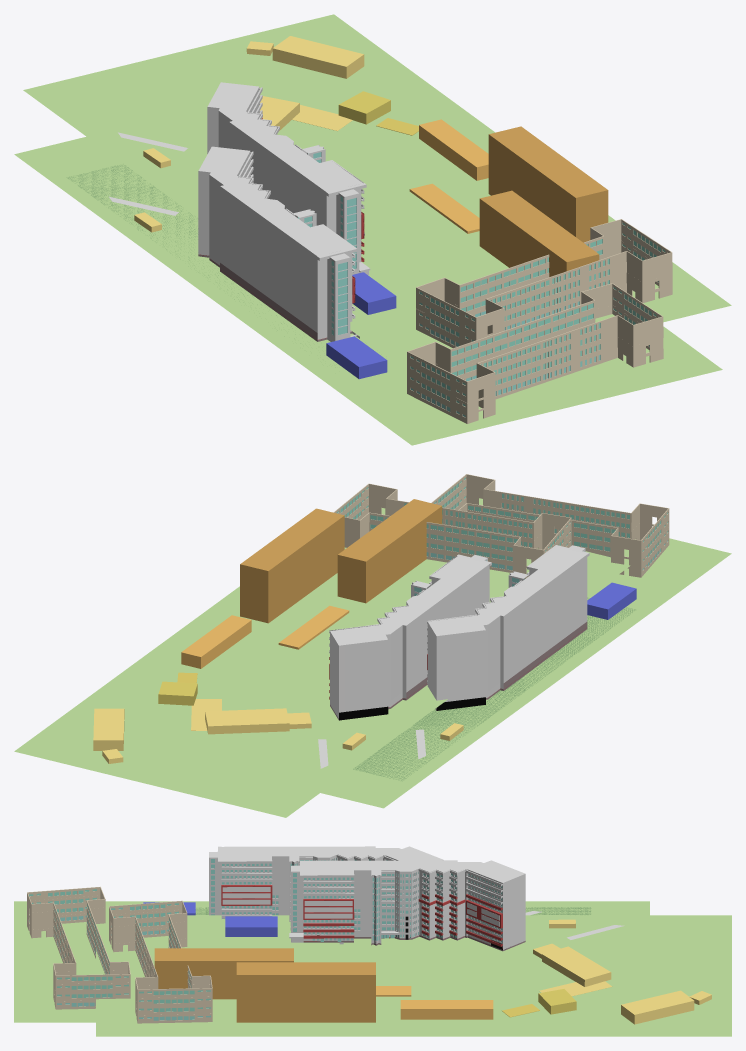
File: campus.glb
The picture shows the model from 3 angles, top to bottom: view 1: azimuth 30°, elevation 25°; view 2: azimuth 150°, elevation 25°; view 3: azimuth 270°, elevation 25°; orthographic projection. The views are drawn at different scales.
Visible parts, largest first — view 1: Plane.001, Plane.003, Cube.003, 4flr, Line.028, 3flr, 2flr, 1flr, Plane, Cube, Cube.004, Stairs (+15 smaller); view 2: Plane.001, Plane.003, Cube.003, Plane, Line.028, 4flr, 3flr, 2flr, Cube, Line.023, Line.024, Cube.004 (+12 smaller); view 3: Plane.001, Plane.003, Cube.003, Line.028, 4flr, 3flr, 2flr, 1flr, Stairs, Plane, 4WINDOW, Cube.011 (+6 smaller).
Boxes of the visible parts, left/top/right/bottom form: Plane.001: left=23, top=14, right=731, bottom=370; Plane.003: left=14, top=136, right=722, bottom=445; Cube.003: left=479, top=190, right=599, bottom=276; 4flr: left=407, top=283, right=663, bottom=392; Line.028: left=198, top=146, right=352, bottom=264; 3flr: left=407, top=294, right=663, bottom=402; 2flr: left=407, top=305, right=663, bottom=413; 1flr: left=407, top=345, right=663, bottom=423; Plane: left=66, top=164, right=336, bottom=367; Cube: left=326, top=336, right=387, bottom=379; Cube.004: left=409, top=183, right=479, bottom=233; Stairs: left=327, top=253, right=350, bottom=341; Plane.001: left=14, top=483, right=630, bottom=817; Plane.003: left=321, top=498, right=731, bottom=808; Cube.003: left=337, top=499, right=442, bottom=603; Plane: left=353, top=597, right=635, bottom=781; Line.028: left=427, top=547, right=587, bottom=643; 4flr: left=431, top=474, right=669, bottom=549; 3flr: left=440, top=484, right=669, bottom=559; 2flr: left=448, top=493, right=669, bottom=568; Cube: left=587, top=582, right=636, bottom=619; Line.023: left=427, top=562, right=587, bottom=650; Line.024: left=427, top=575, right=587, bottom=663; Cube.004: left=278, top=605, right=349, bottom=649; Plane.001: left=96, top=860, right=731, bottom=1036; Plane.003: left=14, top=901, right=649, bottom=1022; Cube.003: left=154, top=948, right=293, bottom=999; Line.028: left=221, top=846, right=443, bottom=866; 4flr: left=27, top=886, right=130, bottom=984; 3flr: left=27, top=895, right=130, bottom=992; 2flr: left=27, top=905, right=130, bottom=1001; 1flr: left=27, top=913, right=95, bottom=1009; Stairs: left=209, top=851, right=221, bottom=915; Plane: left=195, top=907, right=591, bottom=915; 4WINDOW: left=29, top=889, right=128, bottom=980; Cube.011: left=539, top=981, right=612, bottom=996.
Size of the model in its own units: 63.84 by 17.53 by 134.
